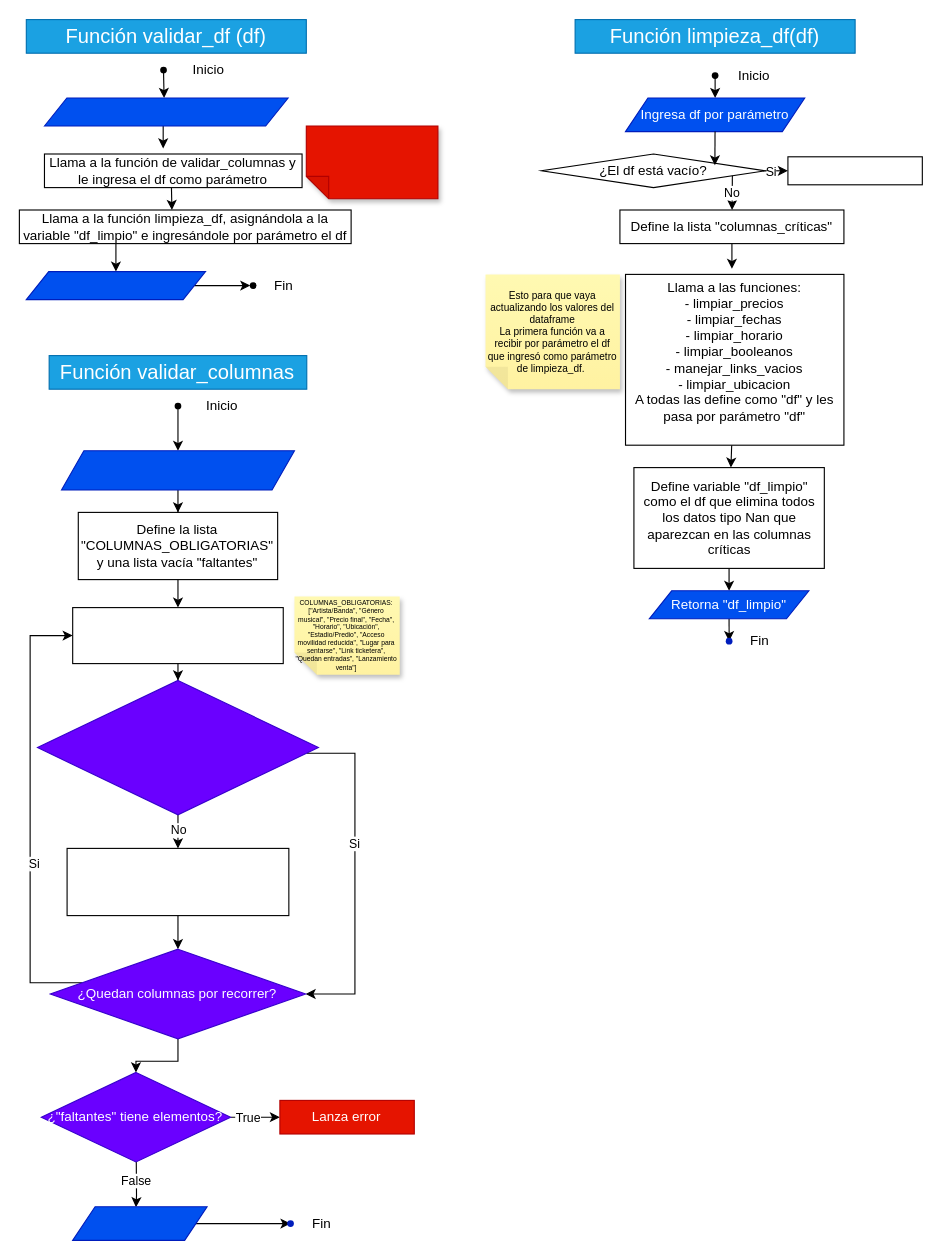
The diagram is 943 pixels wide and 1260 high, and some of its shapes have lost their labels. The centre of each missing label's shape, as x and y in pixels:
appendea esa el nombre de esa columna a la lista de "faltantes": point (177, 881)
Ingresa df como parámetro: point (165, 111)
Ingresa el df por parámetro: point (177, 470)
Lanza ValueError: point (854, 170)
Recorre columna de COLUMNAS_ OBLIGATORIAS: point (177, 635)
Retorna el df_limpio: point (115, 285)
Retorna True: point (139, 1223)
Si alguna de esas funciones lanza un error, corta la función de validar_df: point (373, 163)
¿la columna está en las columnas del df ingresado por parámetro?: point (177, 747)
